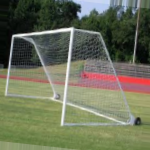goals: (4, 26, 131, 128)
